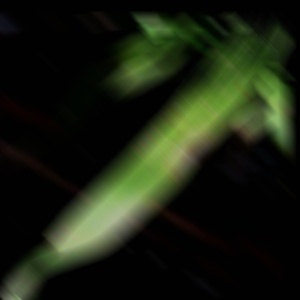Brown_Spot: (164, 120, 220, 173)
